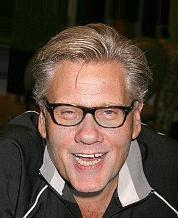face: (55, 100, 121, 170)
